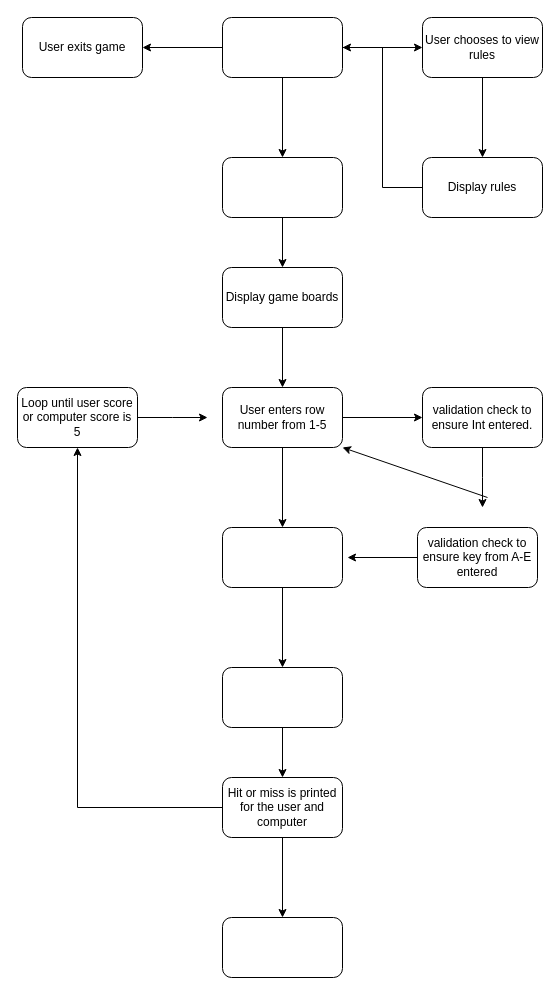
The diagram is 560 pixels wide and 995 high, and some of its shapes have lost their labels. Here are the shapes that lost their labels. From the top down, the centre of each, then its label:
At (282,47): "Start Screen is displayed".
At (282,187): "Create ships for computer and user".
At (282,557): "User enters letter from A-E".
At (282,697): "Grid updates with user choice and computer choice".
At (282,947): "First to 5 wins the game".
